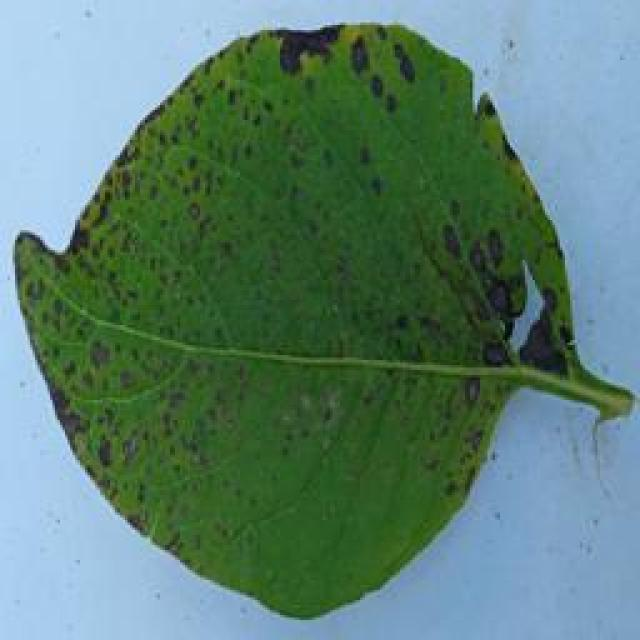Potato_Early_Blight: (8, 12, 626, 602)
